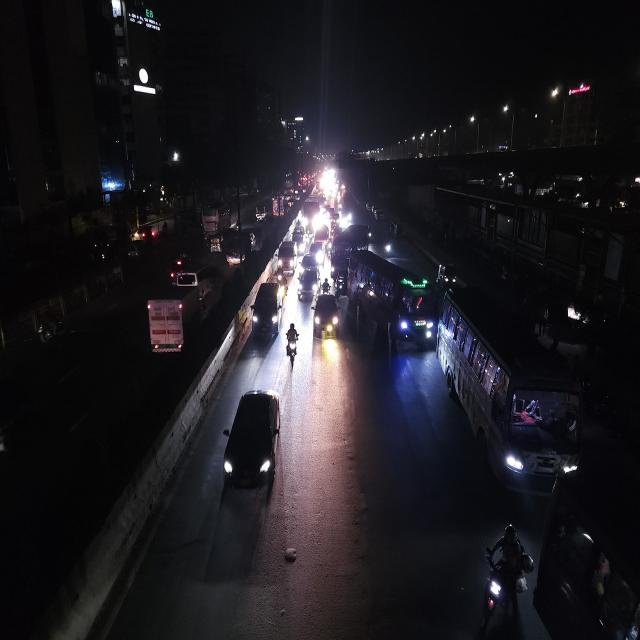bus: (438, 283, 582, 496), (537, 462, 640, 640), (345, 245, 437, 352), (199, 202, 233, 246), (302, 199, 320, 233)
car: (222, 384, 282, 502), (250, 278, 282, 344), (313, 288, 340, 339), (296, 257, 319, 304), (225, 230, 245, 269), (277, 239, 296, 276)
cng: (437, 260, 459, 288), (209, 235, 223, 252)
motorcycle: (480, 521, 533, 625), (284, 320, 300, 370), (382, 233, 392, 254), (366, 223, 374, 245)
pickup_van: (254, 204, 268, 222)
truck: (143, 292, 194, 364)
